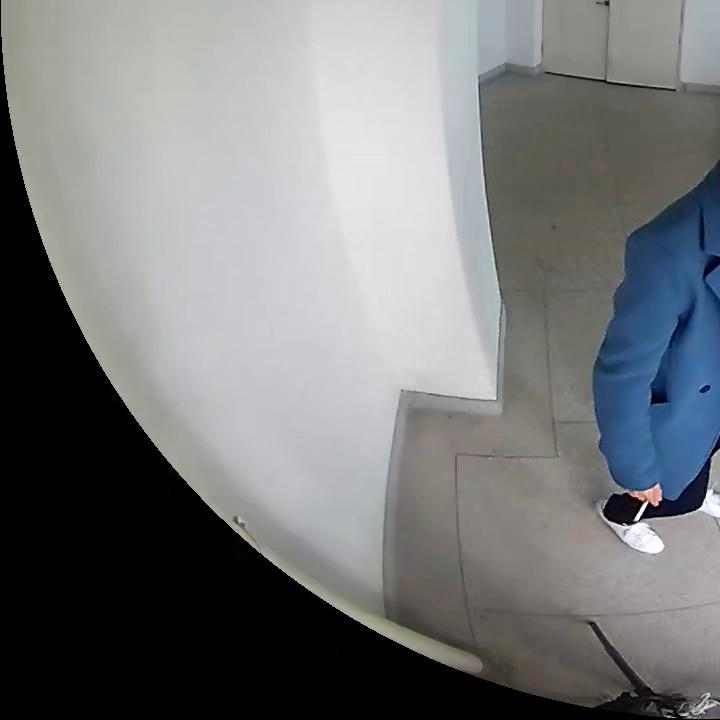handsmoke: (631, 491, 664, 523)
